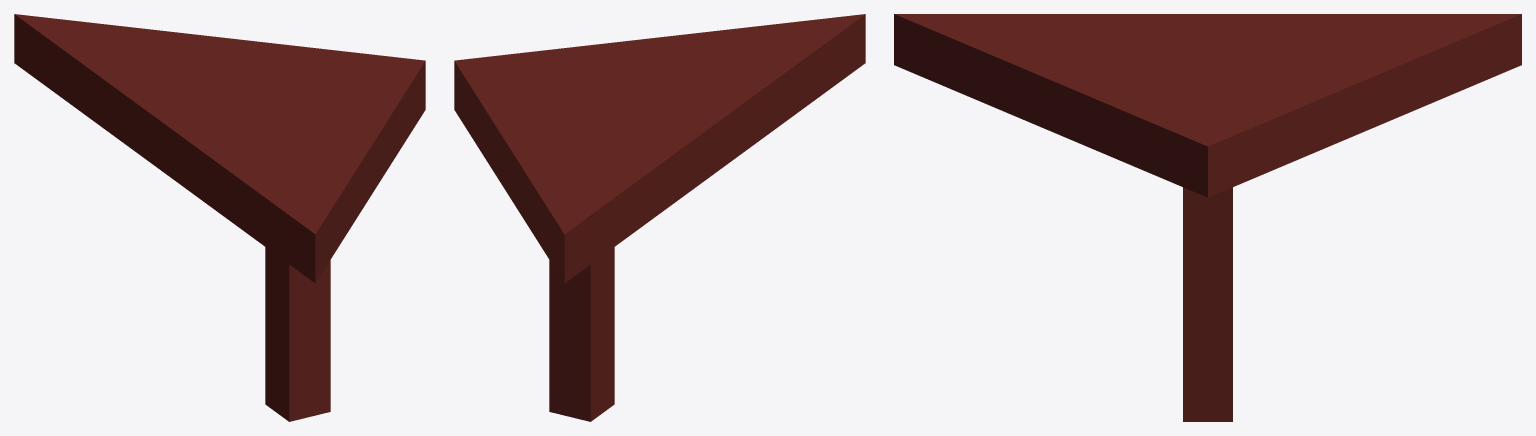
Rendered from Столик Треугольный.fbx.
3 renders of one model, left to right at view 1: azimuth 30°, elevation 25°; view 2: azimuth 150°, elevation 25°; view 3: azimuth 270°, elevation 25°, orthographic. The views are drawn at different scales.
Visible parts, largest first — view 1: Cube; view 2: Cube; view 3: Cube.
Boxes of the visible parts, x1=… form: Cube: x1=14, y1=14, x2=425, y2=421; Cube: x1=454, y1=14, x2=865, y2=421; Cube: x1=894, y1=14, x2=1521, y2=421.
Bounding box in the file's own units: 396 × 460 × 793.
